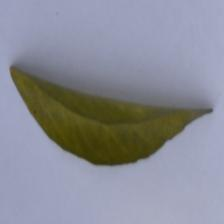greening: (6, 63, 221, 175)
